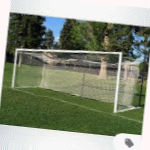goals: (9, 47, 137, 116)
